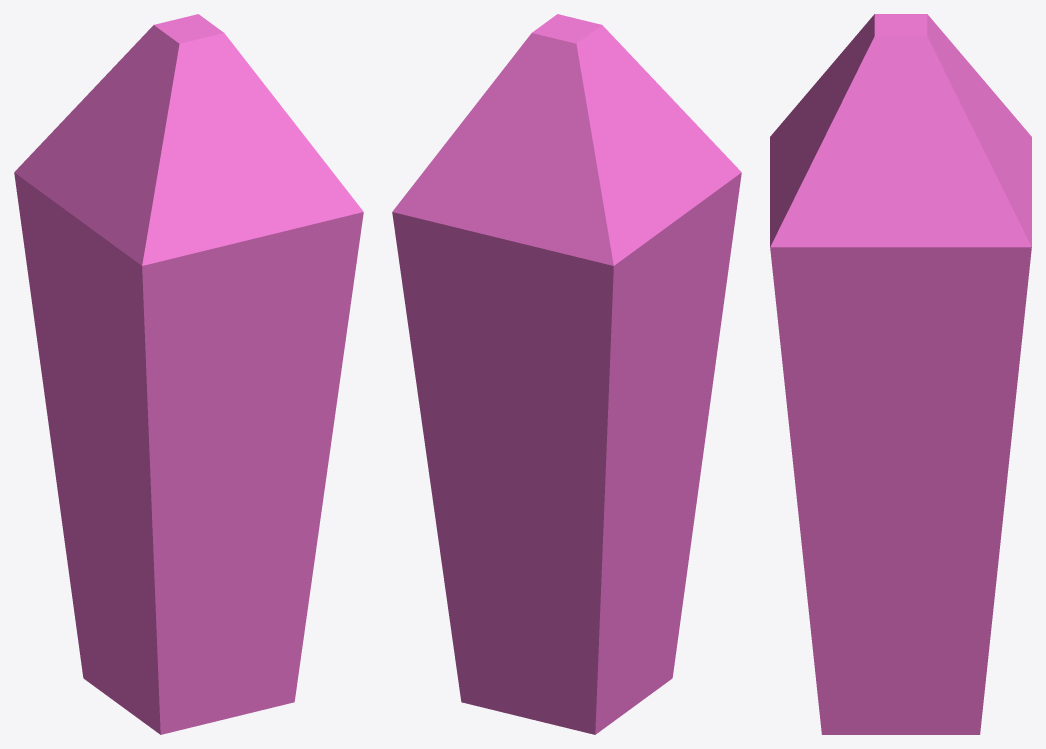
Rendered from Crystal_Pink_F.fbx.
The picture shows the model from 3 angles, left to right: view 1: azimuth 30°, elevation 25°; view 2: azimuth 150°, elevation 25°; view 3: azimuth 270°, elevation 25°; orthographic projection. The views are drawn at different scales.
Visible parts, largest first — view 1: Crystal_Pink_F; view 2: Crystal_Pink_F; view 3: Crystal_Pink_F.
Part boxes in pixels (bbox=[...]): Crystal_Pink_F: bbox=[14, 14, 363, 734]; Crystal_Pink_F: bbox=[392, 14, 741, 734]; Crystal_Pink_F: bbox=[770, 14, 1031, 734].
Bounding box in the file's own units: 60.54 × 173 × 60.54.
